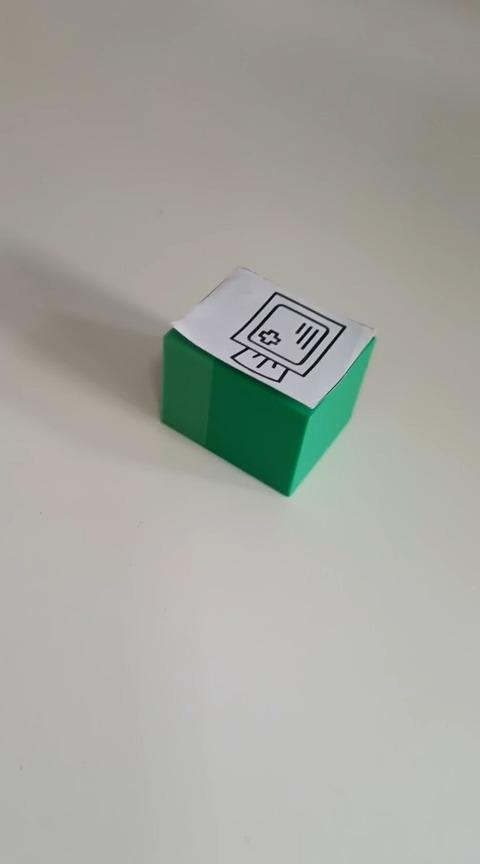Gauze: (158, 264, 377, 497)
